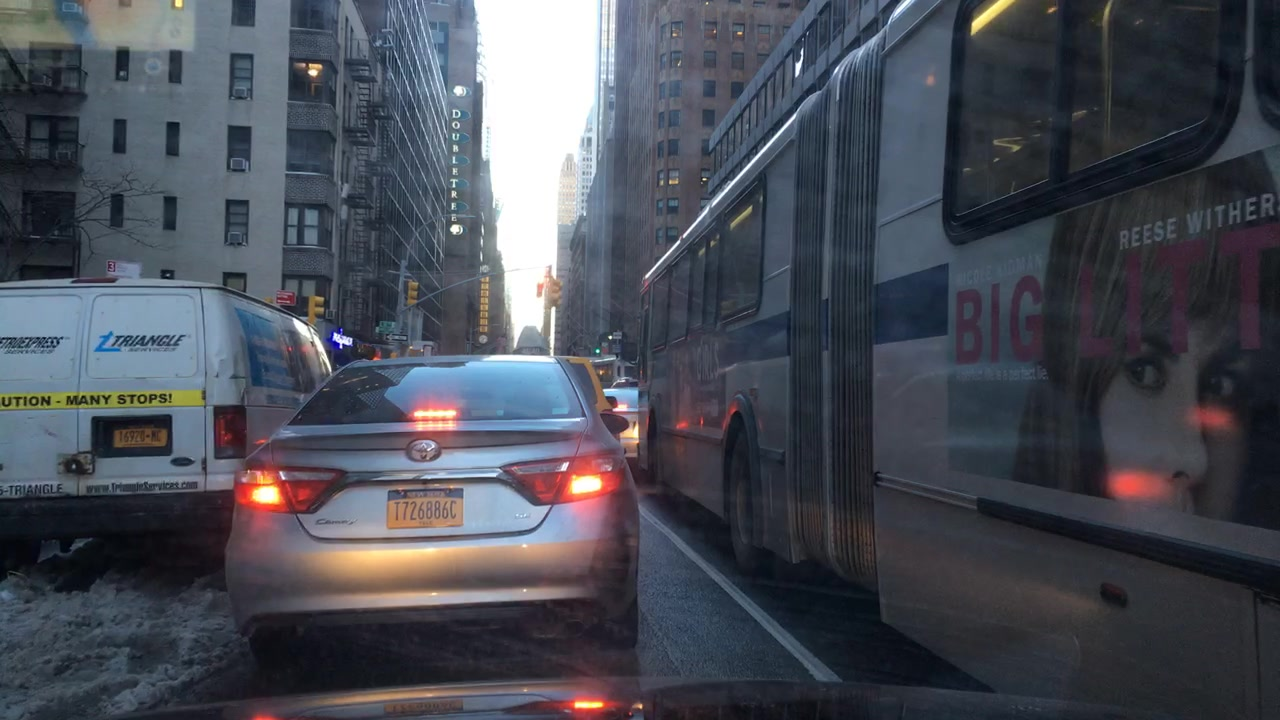licence: (384, 485, 463, 529)
